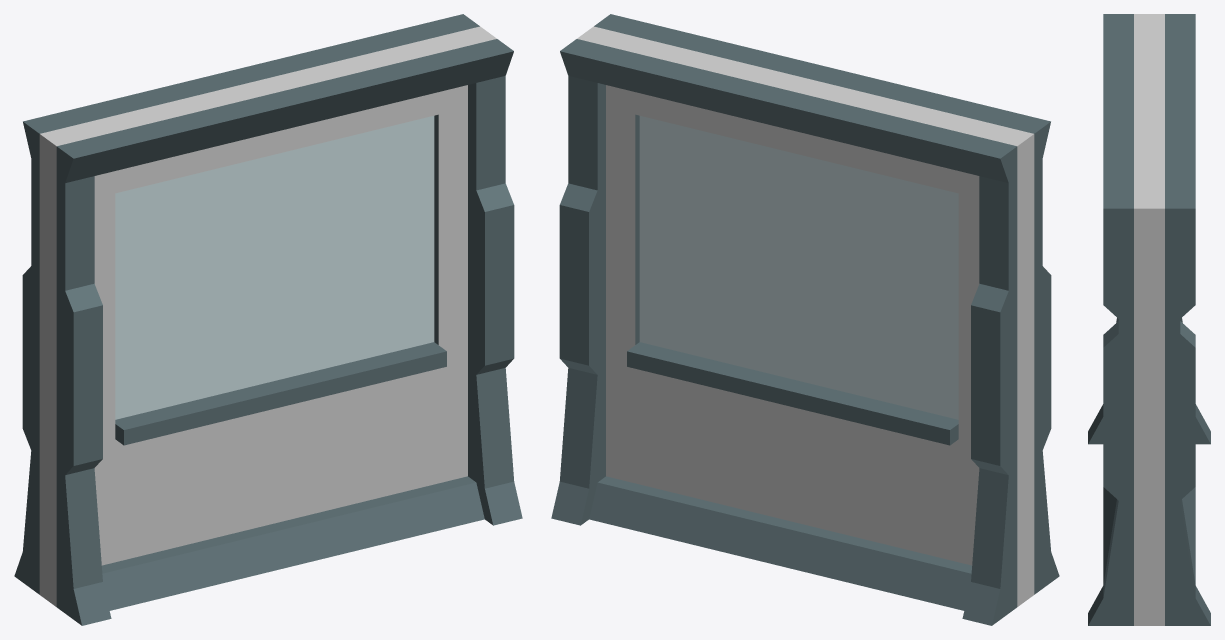
Rendered from scifi_wall_2sided_window_rect.fbx.
3 renders of one model, left to right at view 1: azimuth 30°, elevation 25°; view 2: azimuth 150°, elevation 25°; view 3: azimuth 270°, elevation 25°, orthographic. The views are drawn at different scales.
Visible parts, largest first — view 1: Cube.064; view 2: Cube.064; view 3: Cube.064.
Boxes of the visible parts, bbox=[...] form: Cube.064: bbox=[14, 14, 522, 625]; Cube.064: bbox=[551, 14, 1059, 625]; Cube.064: bbox=[1088, 14, 1210, 625].
Size of the model in its own units: 3 by 3 by 0.8.
